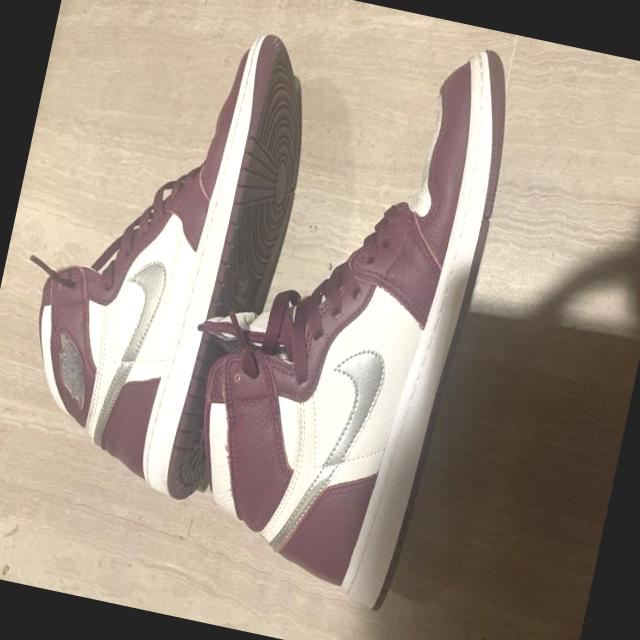nike_original_jordan: (160, 4, 528, 633), (0, 0, 327, 513)
